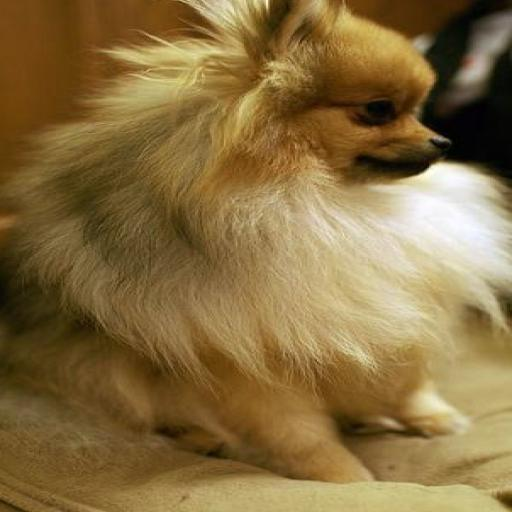dog_face: (191, 0, 446, 185)
